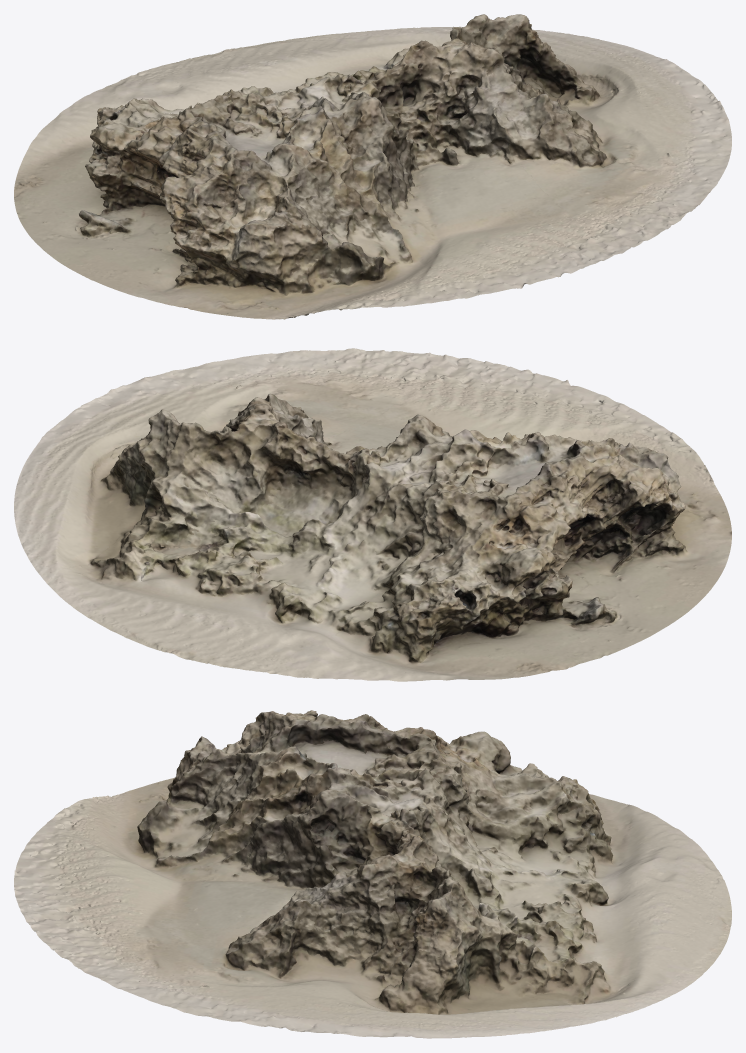
File: beach.fbx
3 renders of one model, top to bottom at view 1: azimuth 30°, elevation 25°; view 2: azimuth 150°, elevation 25°; view 3: azimuth 270°, elevation 25°, orthographic. The views are drawn at different scales.
Visible parts, largest first — view 1: Beach; view 2: Beach; view 3: Beach.
Boxes of the visible parts, bbox=[...] form: Beach: bbox=[14, 14, 731, 319]; Beach: bbox=[14, 348, 731, 681]; Beach: bbox=[14, 710, 731, 1038].
Size of the model in its own units: 62.24 by 11.15 by 59.66.
Materials: 1 (1 with a texture image).
